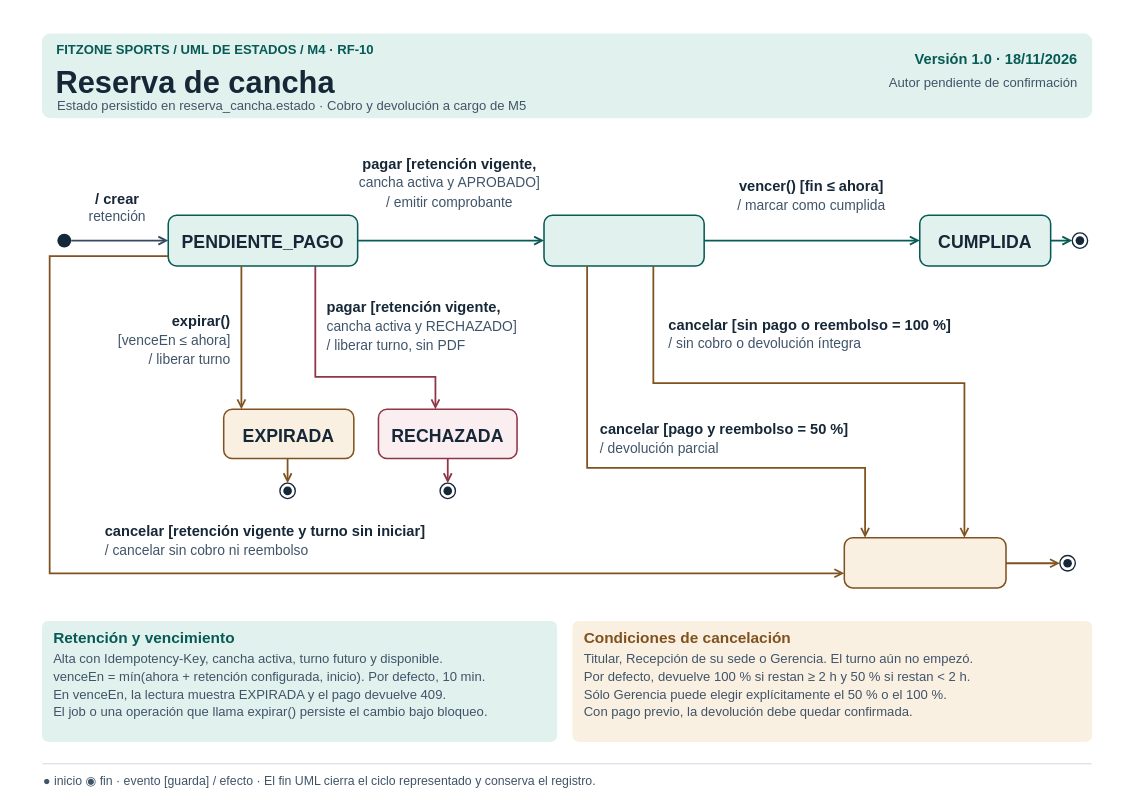
This 1134x809 diagram has some shape labels left out. The shapes that lost their labels are listed below. From the top down, each one's centre as x and y in pixels, then its label:
At [624,240]: "CONFIRMADA".
At [924,562]: "CANCELADA".
